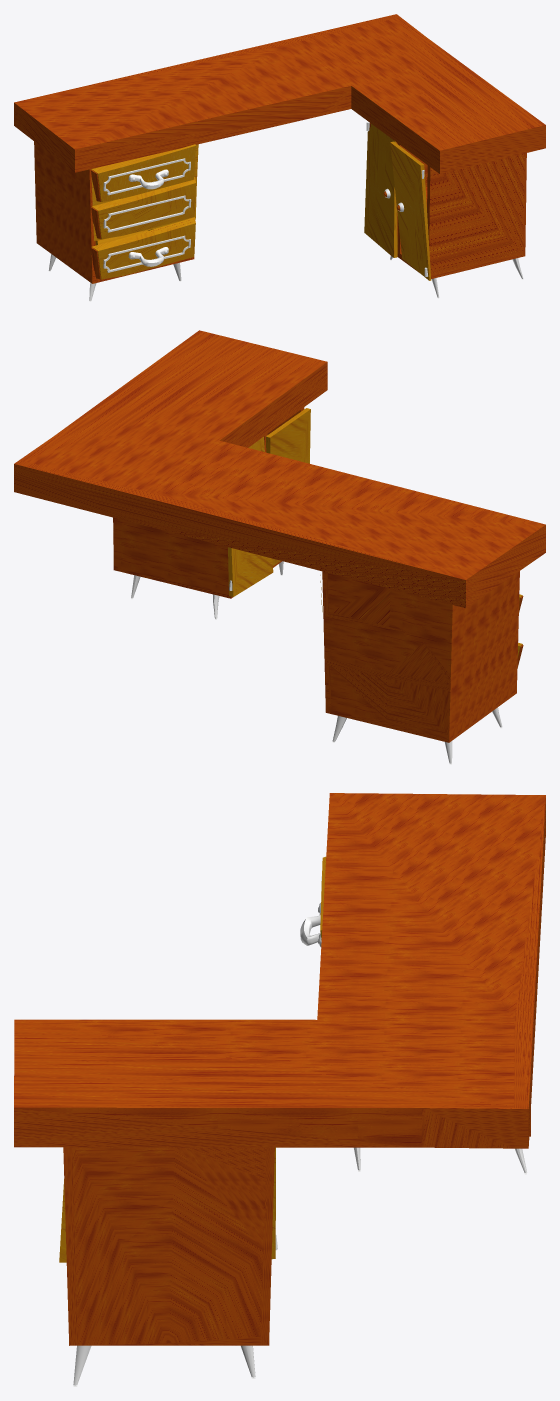
File: desk.fbx
3 views of the same model, one above another, from view 1: azimuth 30°, elevation 25°; view 2: azimuth 150°, elevation 25°; view 3: azimuth 270°, elevation 25° (orthographic). The views are drawn at different scales.
Parts seen in each view (by area): view 1: Object_2, Object_4, Object_3; view 2: Object_2, Object_4, Object_3; view 3: Object_2, Object_3, Object_4.
Part boxes in pixels (x1,y1,x2,y2): Object_2: (14, 14, 545, 283); Object_4: (91, 123, 431, 280); Object_3: (48, 121, 523, 301); Object_2: (14, 330, 545, 742); Object_4: (228, 408, 522, 657); Object_3: (131, 561, 502, 764); Object_2: (14, 793, 545, 1345); Object_3: (73, 876, 526, 1386); Object_4: (59, 856, 326, 1262).
Bounding box in the file's own units: 975 × 407 × 694.
Materials: 3 (2 with a texture image).
